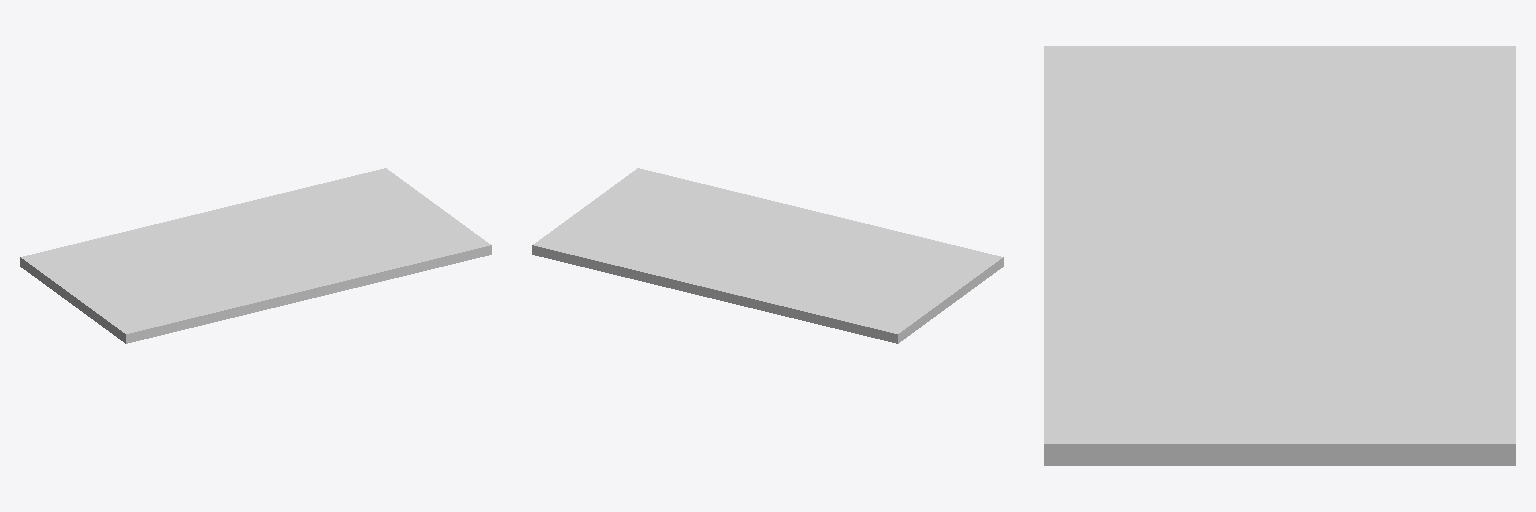
The robot description file, URDF, robot "simple_ball":

<robot name="simple_ball">
  <material name="DarpaGrey">
    <color rgba="0.9 0.9 0.9 1.0"/>
  </material>
  <material name="DarpaBlue">
    <color rgba="0.0 0.5 0.5 1.0"/>
  </material>
  <link name="world"/>
  <joint name="fixedJoint" type="fixed">
    <parent link="world"/>
    <child link="ball"/>
    <!--origin xyz="0 0.2 1.305" rpy="0 0 ${PI}"/-->
    <origin rpy="0 0 0.0" xyz="0 0 0.0"/>
  </joint>
  <link name="ball">
    
    <inertial>
      <mass value="1.0" />
      <!-- center of mass (com) is defined w.r.t. link local coordinate system -->
      <!-- give a little y-offset to make the top precess -->
      <origin xyz="0 0 0" /> 
      <inertia  ixx="1.0" ixy="0.0"  ixz="0.0"  iyy="1.0"  iyz="0.0"  izz="1.0" />
    </inertial>
    <visual>
      <material name="DarpaGrey"/>
      <!-- visual origin is defined w.r.t. link local coordinate system -->
      <origin xyz="0 0 0" rpy="0 0 0" />
      <geometry>
        <box size="2.0 1.0 0.05"/>
      </geometry>
    </visual>
    <collision>
      <!-- collision origin is defined w.r.t. link local coordinate system -->
      <origin xyz="0 0 0" rpy="0 0 0" />
      <geometry>
        <box size="2.0 1.0 0.05"/>
      </geometry>
    </collision>
  </link>
</robot>

--- Render facts (derived) ---
The picture shows the robot from 3 angles, left to right: view 1: azimuth 30°, elevation 25°; view 2: azimuth 150°, elevation 25°; view 3: azimuth 270°, elevation 25°; orthographic projection.
Robot: simple_ball — 2 links, 1 joints (1 fixed); root link world; default pose: every joint at zero.
Links seen in each view (by area): view 1: ball; view 2: ball; view 3: ball.
Link boxes in pixels (x1,y1,x2,y2): ball: (20, 168, 491, 343); ball: (532, 168, 1003, 343); ball: (1044, 46, 1515, 465).
Bounding box of the posed robot: 2 × 1 × 0.05 m (x, y, z).
Geometry: primitives only (box / cylinder / sphere), no mesh files.